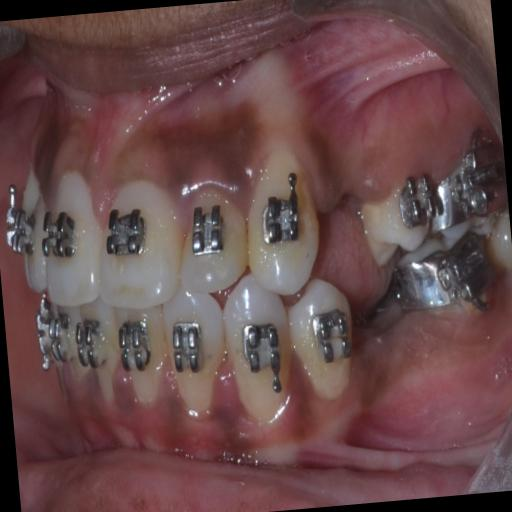correct_brace: (288, 274, 361, 402), (258, 173, 308, 254), (241, 318, 287, 398), (309, 300, 352, 374), (102, 200, 150, 263), (40, 201, 81, 266), (188, 202, 227, 260), (170, 314, 203, 380)
incorrect_brace: (162, 284, 229, 416), (174, 181, 249, 297)
